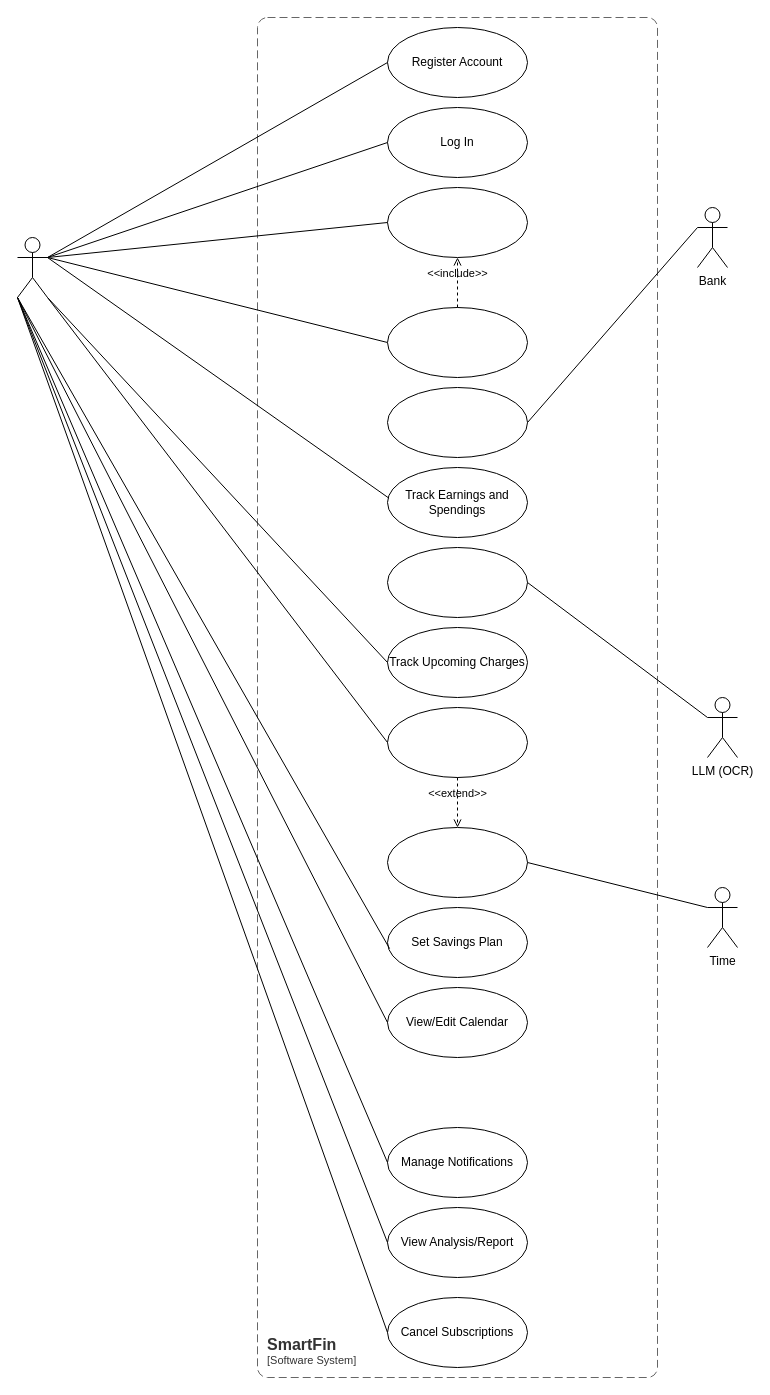
Some shapes in this 770 by 1395 pixel diagram are drawn without their labels. The centre of each missing label's shape, as x and y in pixels:
"Connect Bank Account" belongs at point 457,222.
"Extract Receipt Data" belongs at point 457,582.
"Provide Statements" belongs at point 457,422.
"Send Reminders" belongs at point 457,862.
"Set Reminders" belongs at point 457,742.
"Sync Transactions" belongs at point 457,342.
"User" belongs at point 32,267.
